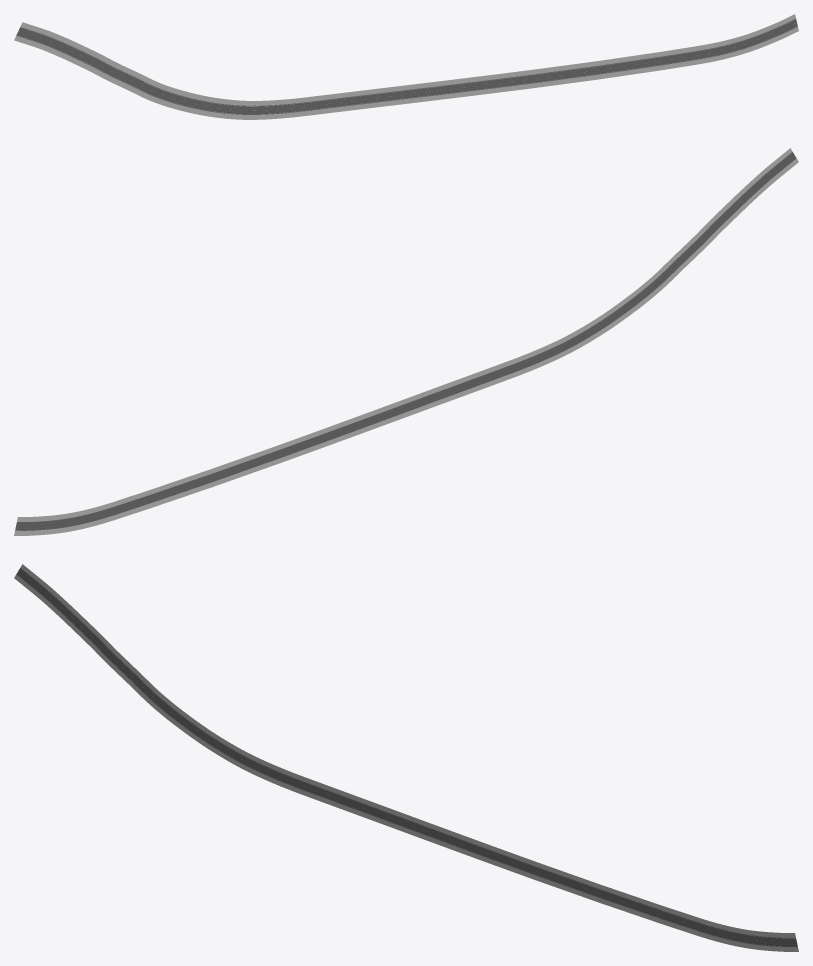
File: jolengatan.fbx
3 renders of one model, top to bottom at view 1: azimuth 30°, elevation 25°; view 2: azimuth 210°, elevation 25°; view 3: azimuth 330°, elevation 25°, orthographic.
Visible parts, largest first — view 1: DefaultName; view 2: DefaultName; view 3: DefaultName.
Part boxes in pixels (left/top/right/bottom): DefaultName: left=14, top=14, right=798, bottom=119; DefaultName: left=14, top=148, right=798, bottom=535; DefaultName: left=14, top=564, right=798, bottom=951.
Size of the model in its own units: 762 by 193 by 0.02.
